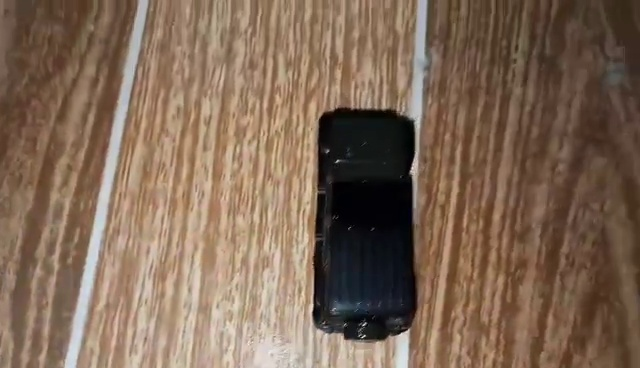car: (313, 113, 423, 345)
